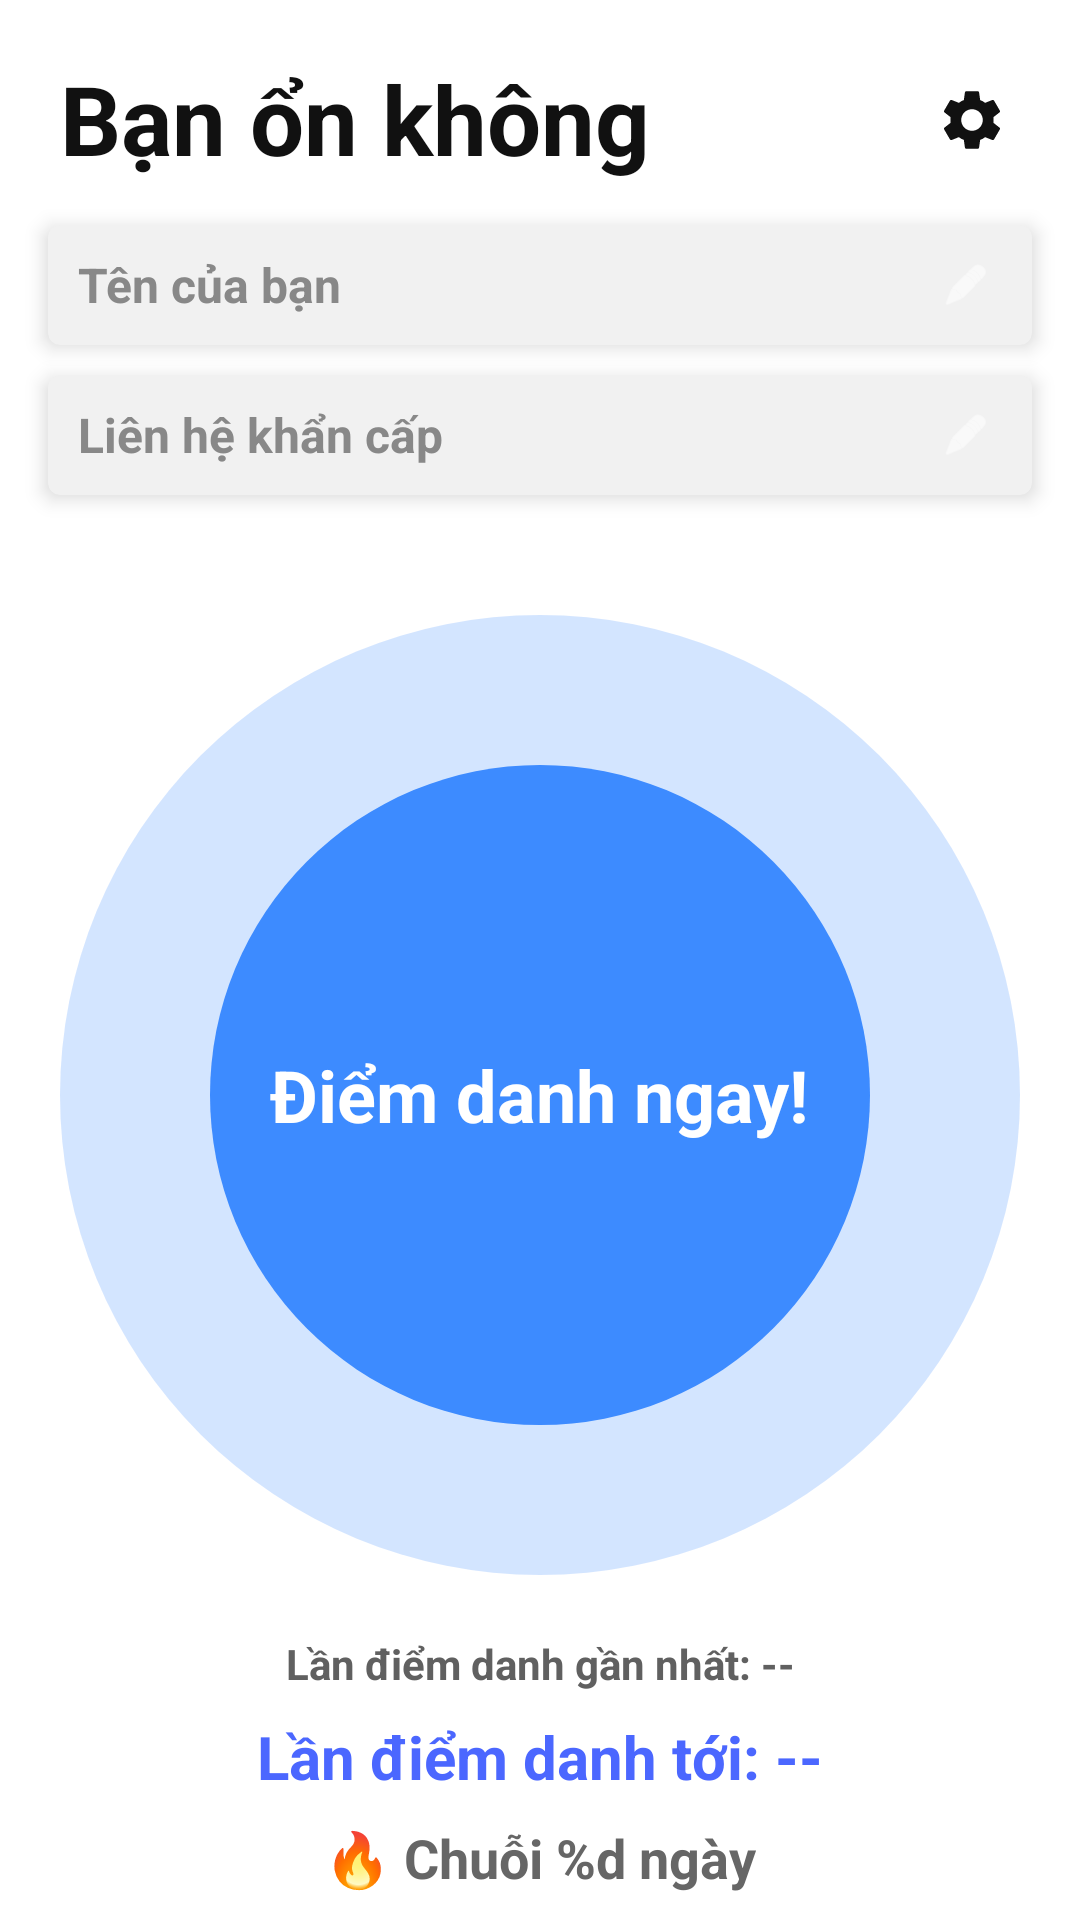

Where icons sit on this 1080px×1920px app screen, as (x1, y1, x2, y2):
settings gear: (944, 91, 1000, 149)
